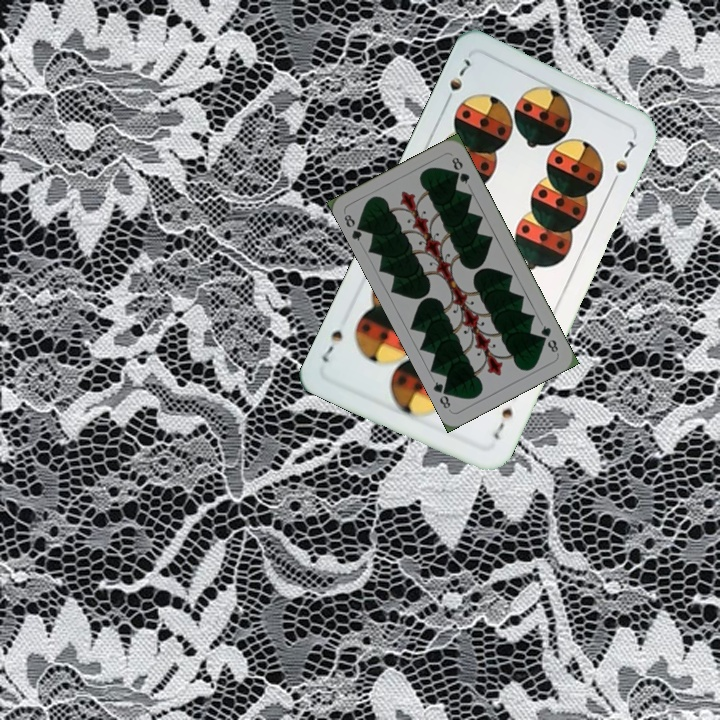G8: (340, 210, 368, 244), (537, 321, 561, 355)
S7: (441, 54, 474, 108), (489, 403, 515, 442)
